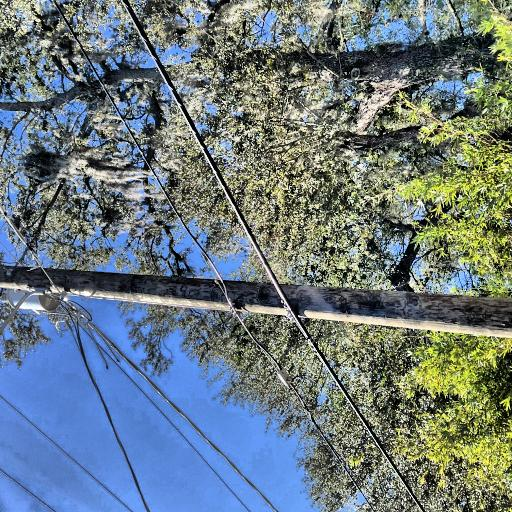pole: (26, 0, 132, 512)
street light: (0, 55, 104, 169)
transformer: (80, 120, 112, 183)
